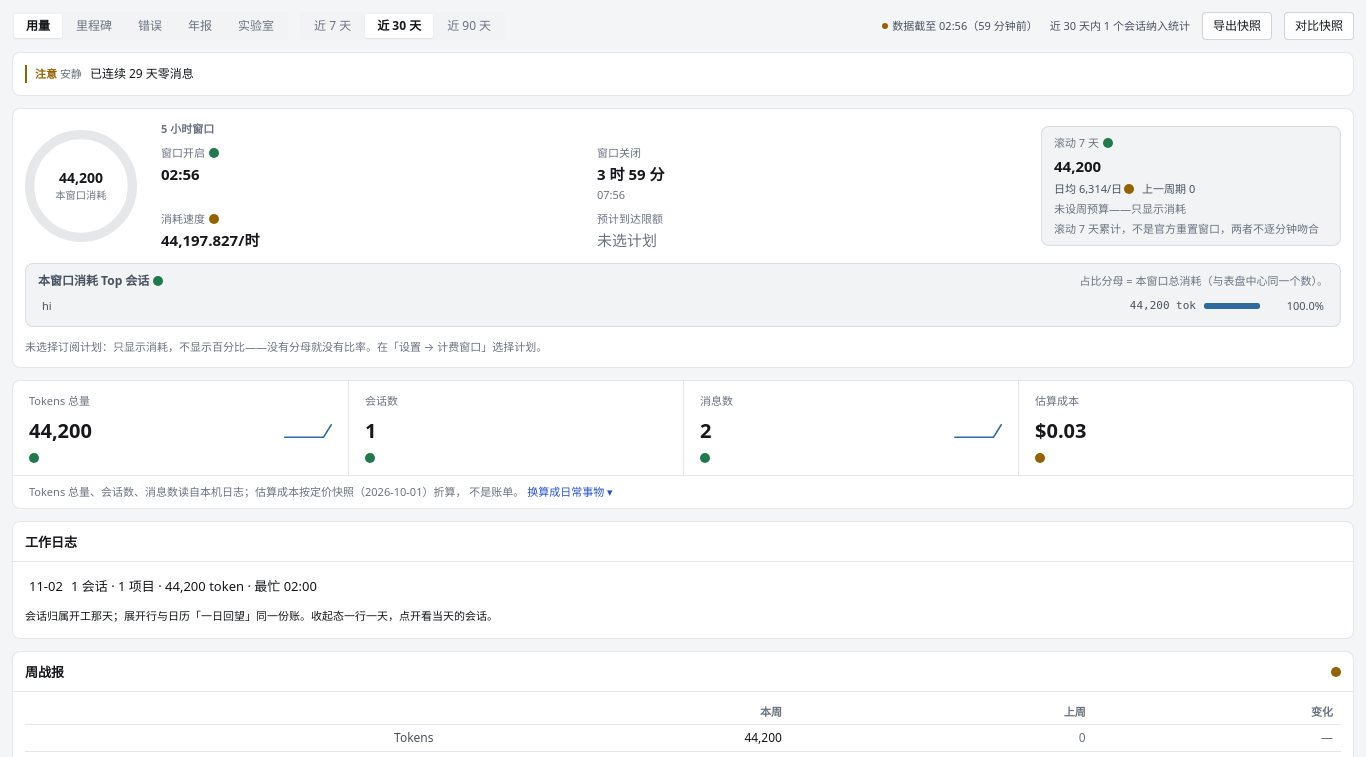
Test: UsageOverviewPage › 年报档（E4）：第 4 档渲染整年卡片、隐藏时间范围控件、不新增 I/O
What coordinates should you click on to do the following:
click the tab "年报"
I would click on:
 (200, 26)
Its box is [176,14,224,38].
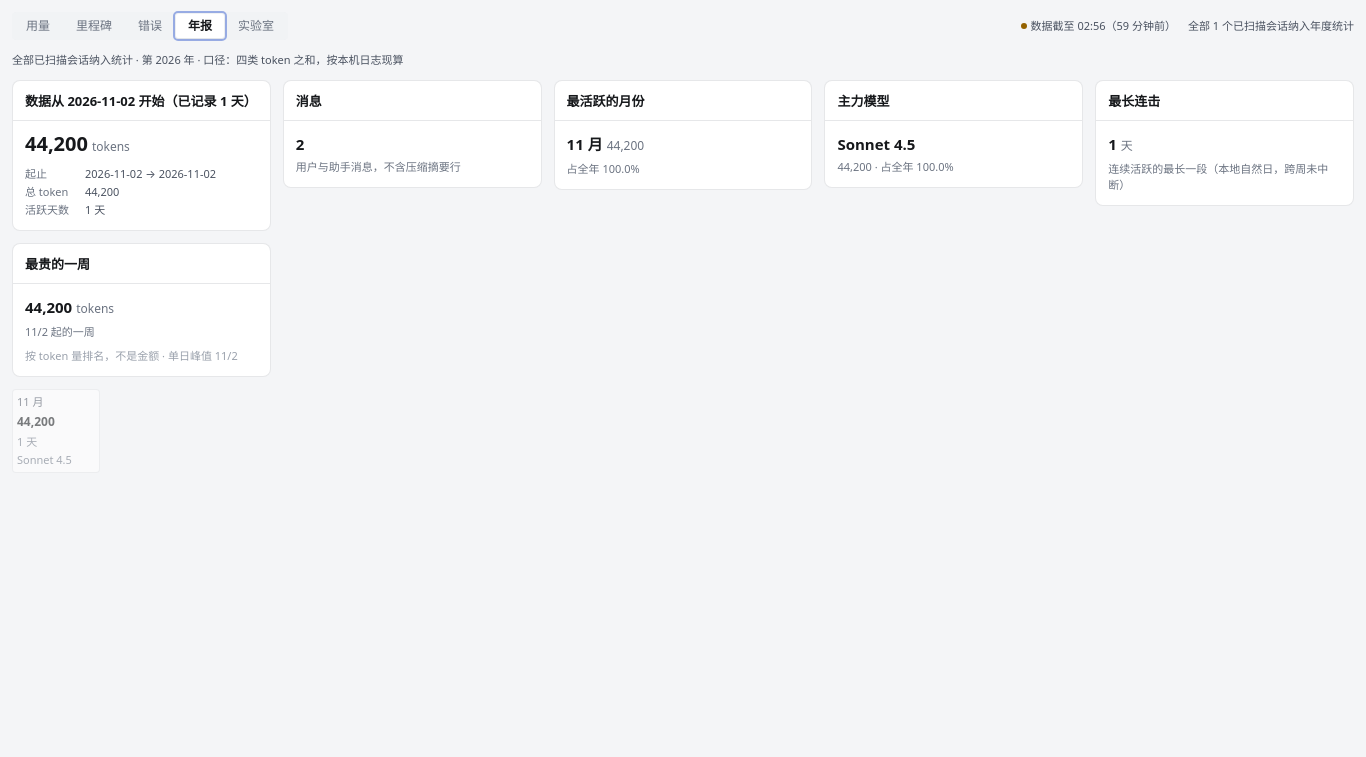
expect the element "时间范围" is gone: met
expect the text "全部 1 个已扫描会话纳入年度统计" is shown: met, box [1188,18,1354,34]
